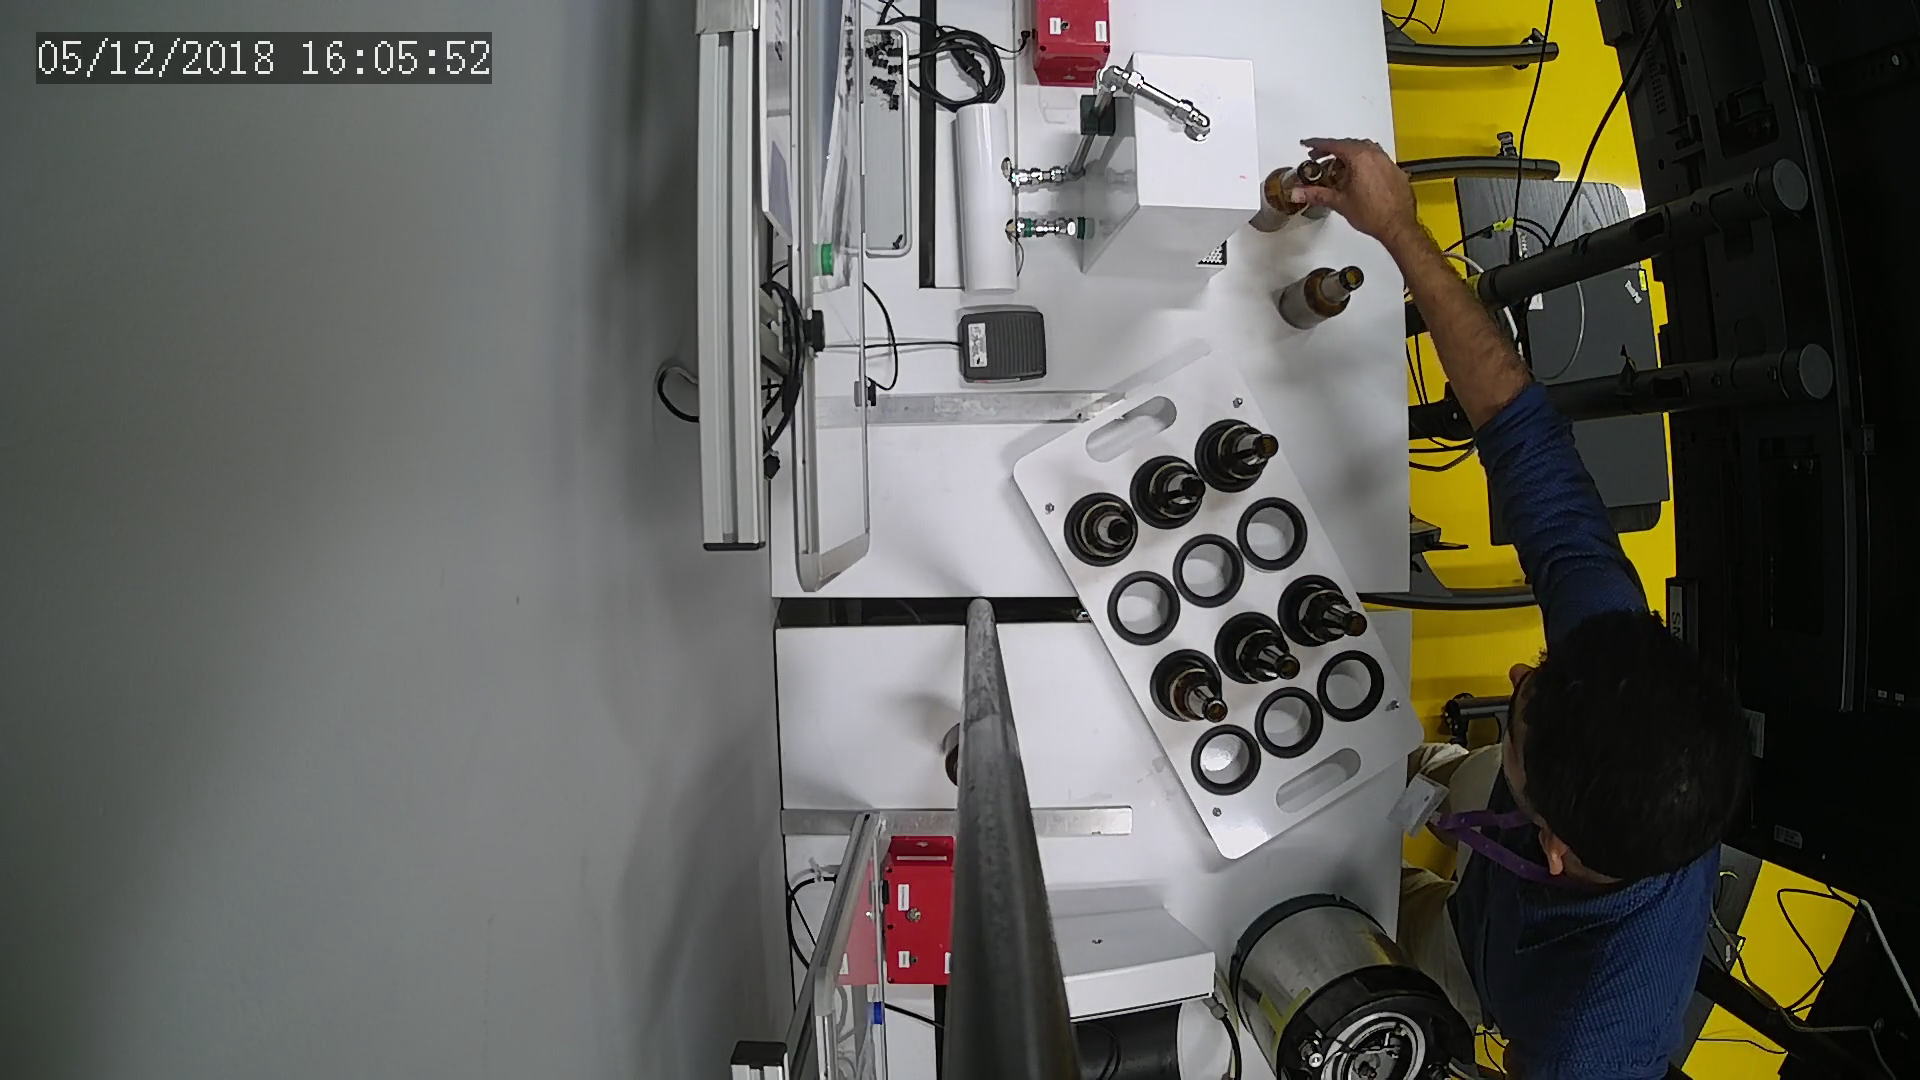filled_bottle: (1201, 418, 1284, 497), (1153, 651, 1232, 732), (1284, 576, 1371, 649), (1216, 615, 1304, 686), (1064, 491, 1145, 568), (1131, 455, 1208, 527)
trolley: (1006, 353, 1429, 865)
unfilled_bottle: (1276, 261, 1366, 334), (1251, 160, 1320, 243)
